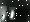person: (1, 7, 8, 22), (10, 8, 17, 21)
